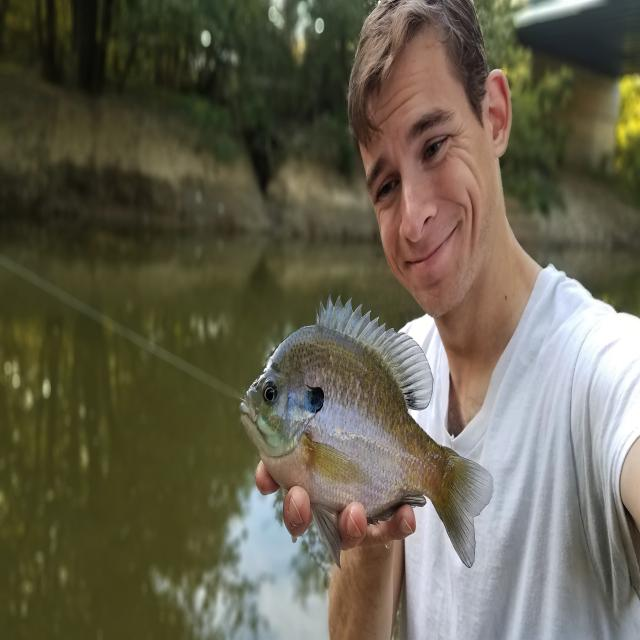Bluegill: (240, 298, 492, 567)
